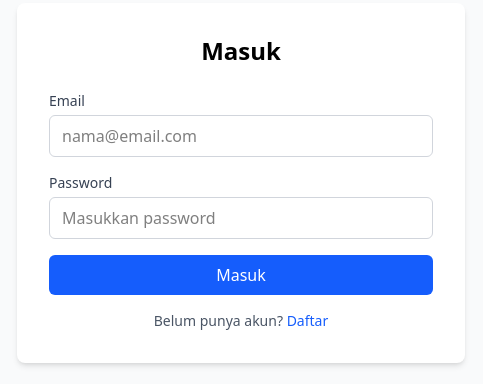
Test case: LoginForm › disables form while loading
This screenshot has width=483, height=384.
Type "test@test.com" into the field labelled "Email". click: [241, 136]
box: [49,115,433,157]
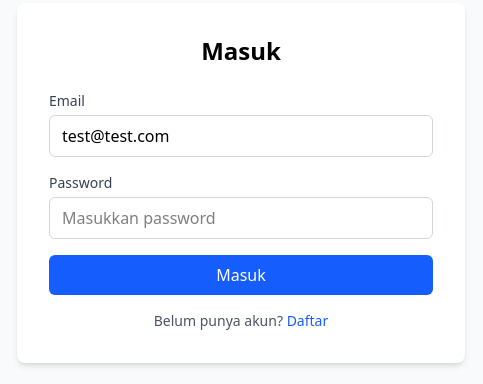
Type "password123" into the password field labelled "Password". click: [241, 218]
box: [49,197,433,239]
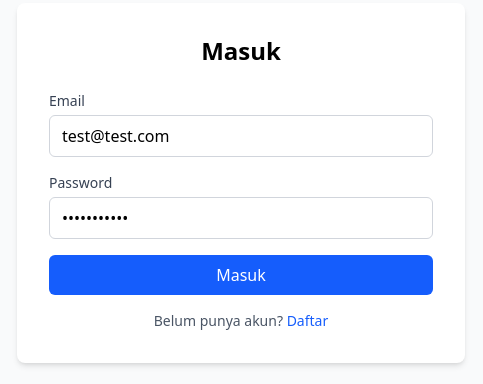
Click the button "Masuk". click: [241, 275]
box: [49,255,433,295]
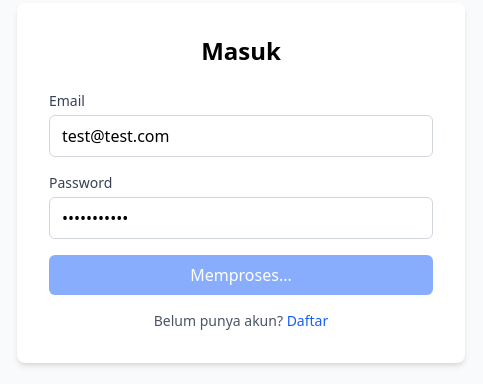
Expected: the button "Memproses..." is disabled, [49,255,433,295]
